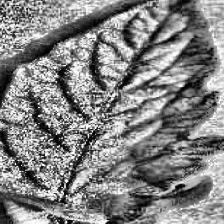Anthracnose Fruit Rot: (159, 88, 212, 120), (156, 10, 200, 38), (148, 65, 202, 87)
